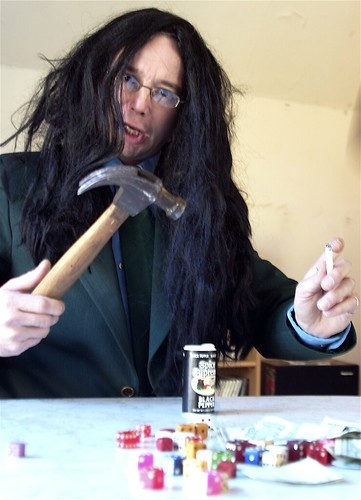hammer: (22, 163, 187, 310)
